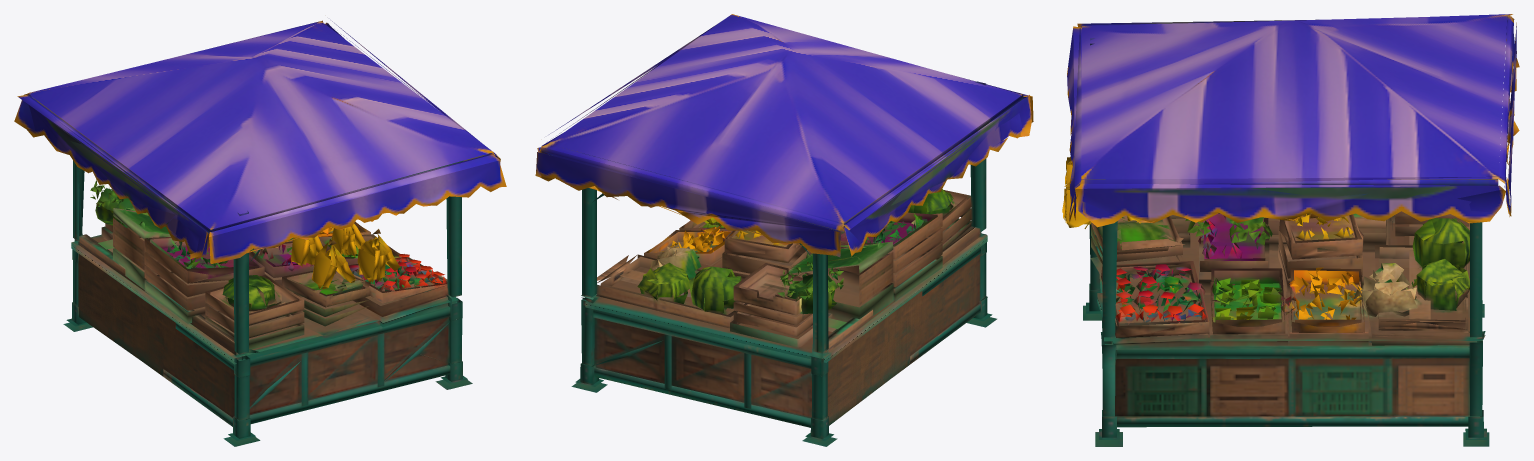
File: tripo_convert_bcb2f2b8-a598-4f25-b507-8f283fc23352_lo.glb
3 renders of one model, left to right at view 1: azimuth 30°, elevation 25°; view 2: azimuth 150°, elevation 25°; view 3: azimuth 270°, elevation 25°, orthographic. The views are drawn at different scales.
Visible parts, largest first — view 1: tripo_node_bcb2f2b8-a598-4f25-b507-8f283fc23352; view 2: tripo_node_bcb2f2b8-a598-4f25-b507-8f283fc23352; view 3: tripo_node_bcb2f2b8-a598-4f25-b507-8f283fc23352.
Part boxes in pixels (x1=…): tripo_node_bcb2f2b8-a598-4f25-b507-8f283fc23352: x1=14, y1=20, x2=506, y2=446; tripo_node_bcb2f2b8-a598-4f25-b507-8f283fc23352: x1=535, y1=14, x2=1033, y2=446; tripo_node_bcb2f2b8-a598-4f25-b507-8f283fc23352: x1=1062, y1=14, x2=1519, y2=446.
Bounding box in the file's own units: 0.942 × 0.8504 × 1.
1 material, 1 textured.
